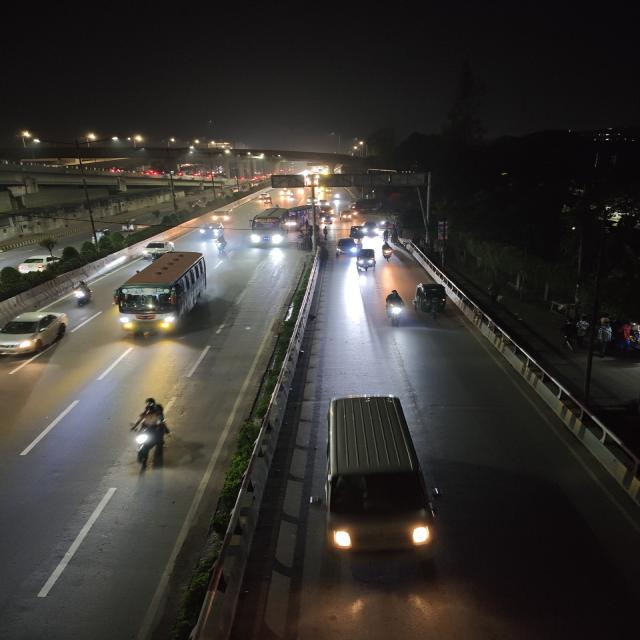bus: (110, 249, 214, 339), (247, 207, 290, 249)
car: (322, 390, 437, 584), (0, 308, 70, 360), (15, 253, 62, 276), (142, 238, 178, 256), (334, 236, 359, 256), (210, 208, 233, 225), (362, 222, 380, 237), (318, 212, 334, 224)
cng: (413, 281, 450, 317), (354, 246, 377, 271), (339, 210, 356, 222), (262, 196, 274, 206)
motorcycle: (123, 395, 180, 471), (383, 287, 407, 329), (68, 278, 95, 308), (211, 237, 229, 256), (381, 242, 395, 264)
pedestrian: (296, 236, 306, 252), (322, 226, 330, 241), (382, 229, 390, 244)
